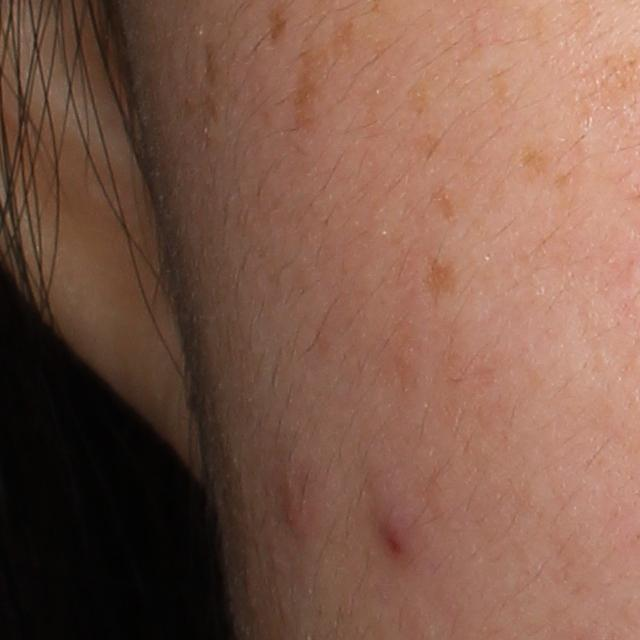melasma: (295, 12, 366, 132), (419, 250, 460, 311), (513, 139, 554, 187), (430, 181, 464, 231), (402, 68, 432, 118), (407, 130, 445, 163), (265, 2, 292, 48)
papule: (376, 510, 415, 562), (284, 495, 311, 534)
